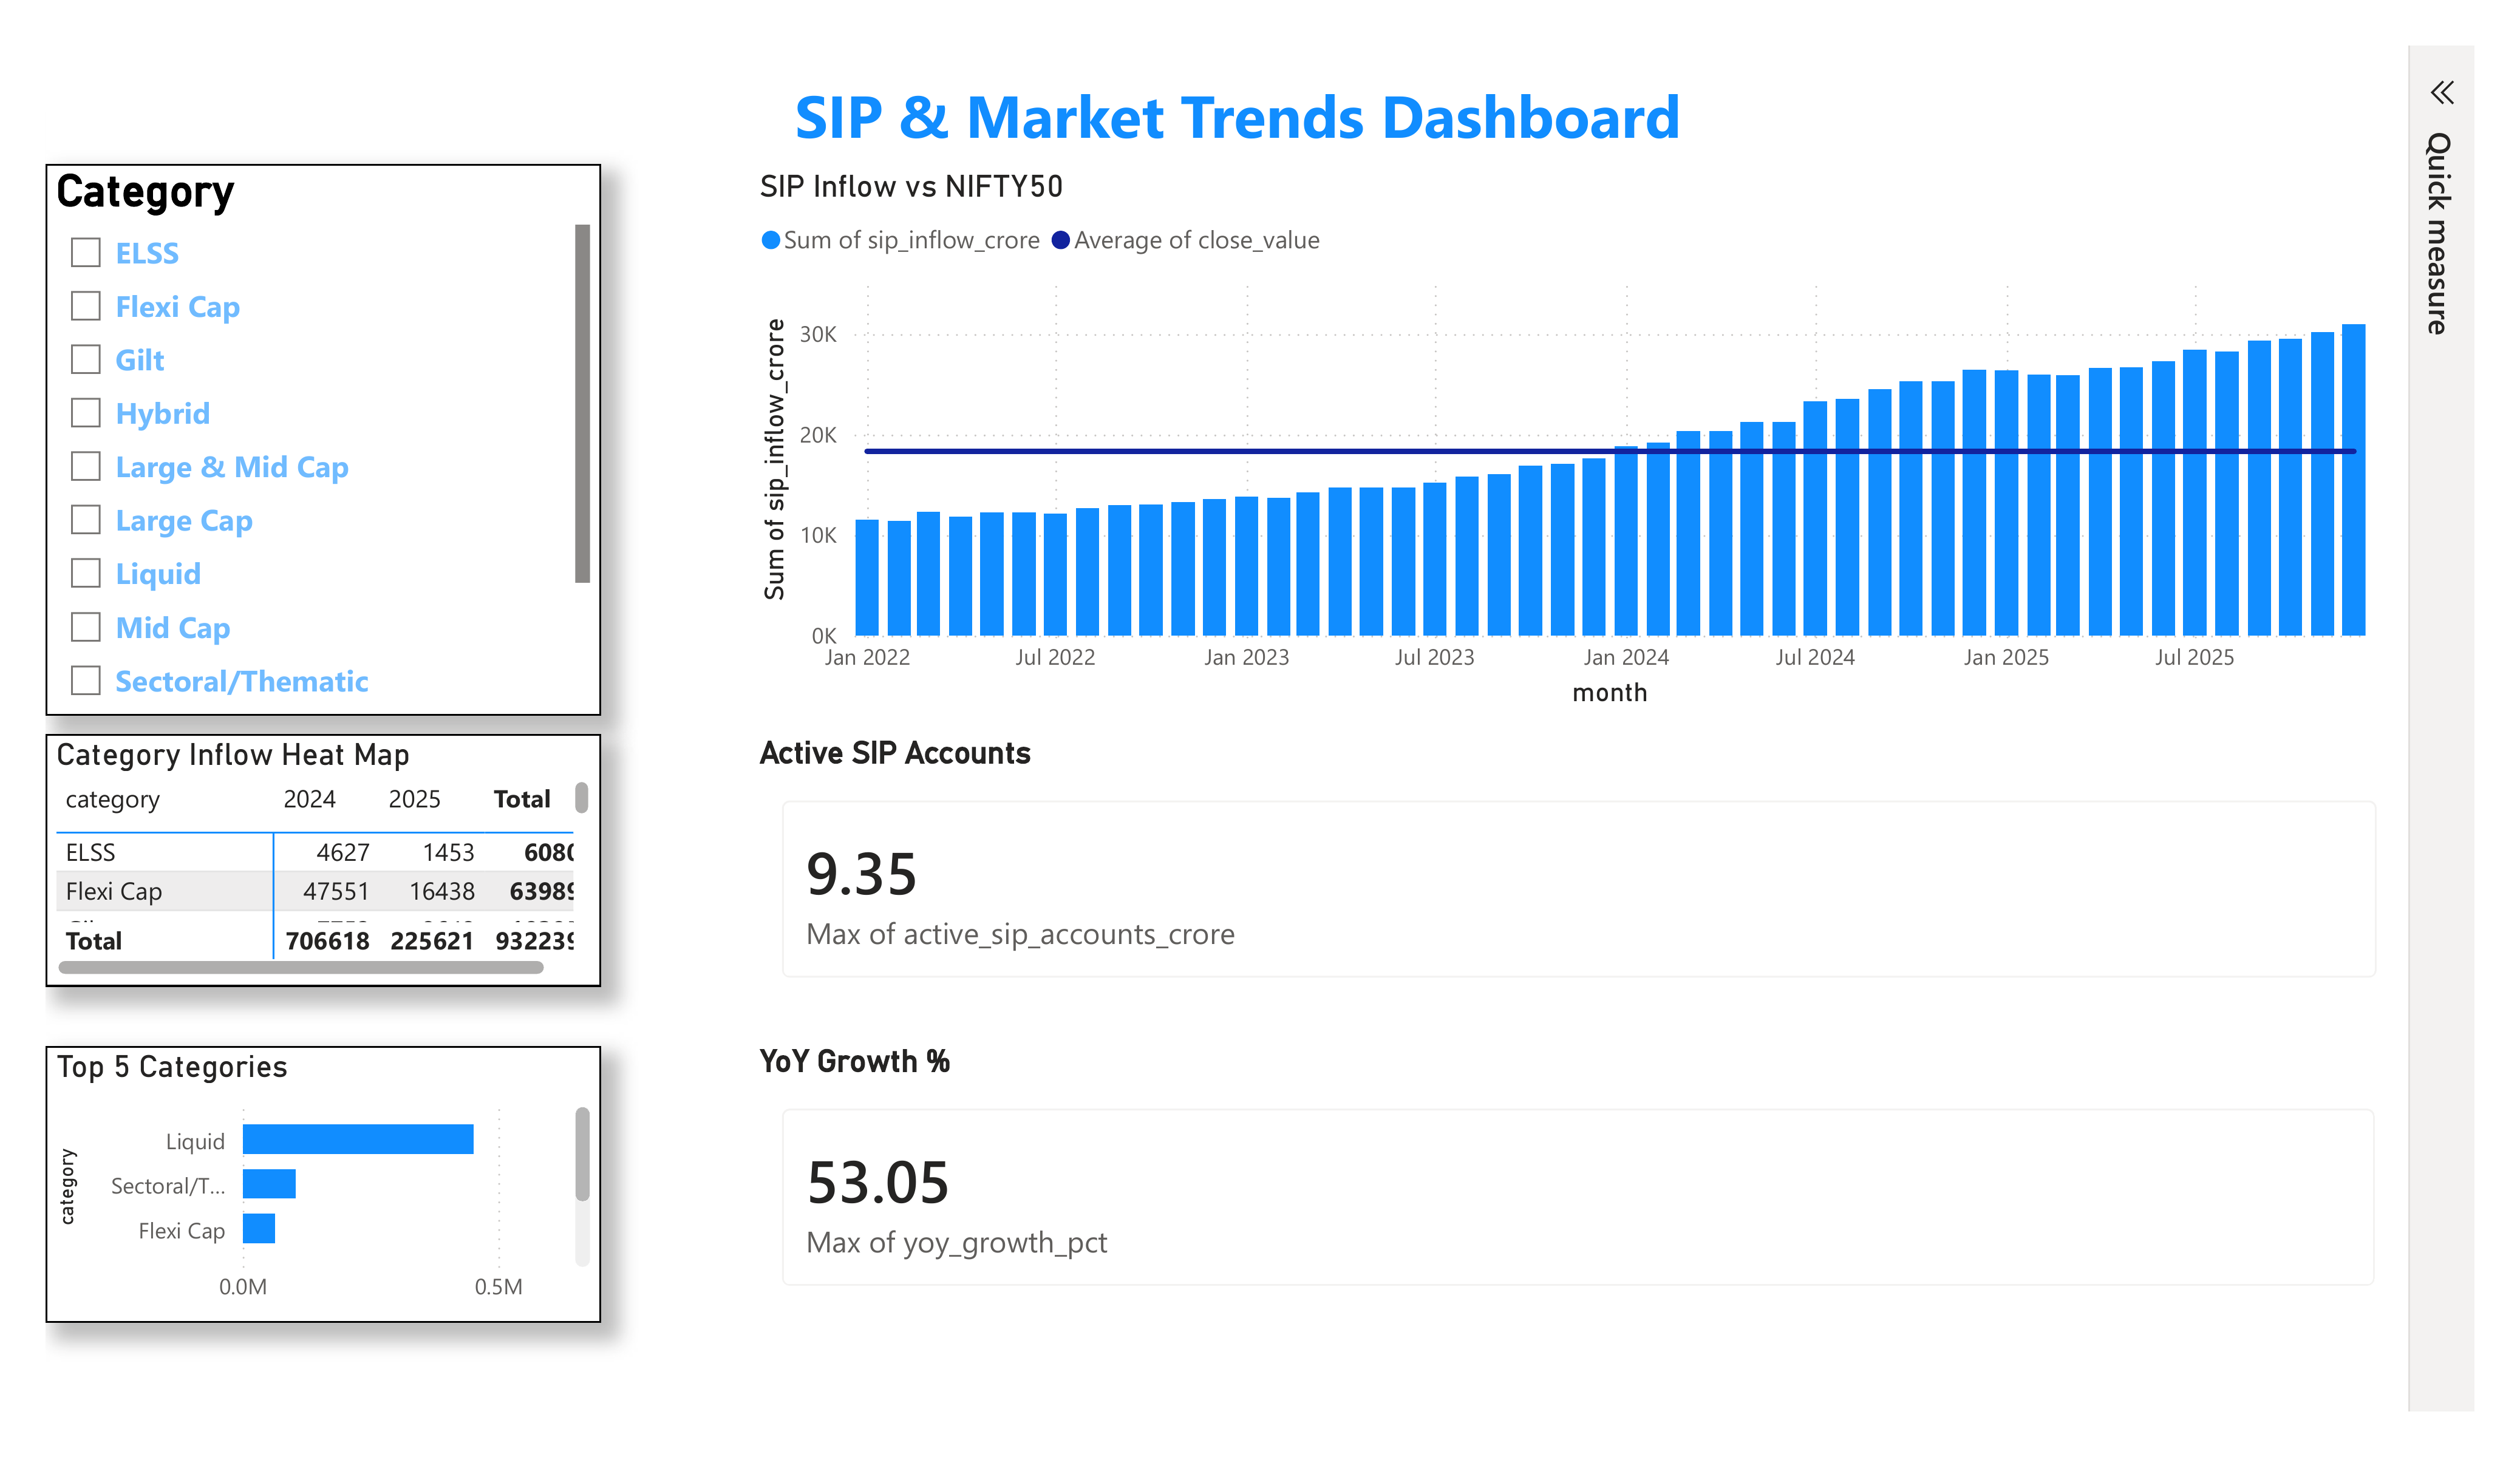

Layout of this report page (visuals, bound fields, positions):
{"tool":"powerbi","page":{"name":"SIP Market Trends","canvas":[1280,720],"ordinal":3},"visuals":[{"type":"textbox","box":[400.5,0,583,108.3],"z":0},{"type":"slicer","title":"Category","fields":{"Values":["05_category_inflows.category"]},"box":[0,54.2,300.8,299.3],"z":1000},{"type":"lineClusteredColumnComboChart","title":"SIP Inflow vs NIFTY50","fields":{"Y":["Sum(04_monthly_sip_inflows.sip_inflow_crore)"],"Category":["04_monthly_sip_inflows.month"],"Y2":["Avg(10_benchmark_indices.close_value)"]},"box":[382,55.6,898,297.9],"z":2000},{"type":"pivotTable","title":"Category Inflow Heat Map","fields":{"Rows":["05_category_inflows.category"],"Columns":["05_category_inflows.month.Variation.Date Hierarchy.Year","05_category_inflows.month.Variation.Date Hierarchy.Quarter","05_category_inflows.month.Variation.Date Hierarchy.Month","05_category_inflows.month.Variation.Date Hierarchy.Day"],"Values":["Sum(05_category_inflows.net_inflow_crore)"]},"box":[0,363.5,300.8,136.8],"z":3000},{"type":"clusteredBarChart","title":"Top 5 Categories","fields":{"Category":["05_category_inflows.category"],"Y":["Sum(05_category_inflows.net_inflow_crore)"]},"box":[0,531.5,301,150],"z":3001},{"type":"cardVisual","title":"Active SIP Accounts","fields":{"Data":["Max(04_monthly_sip_inflows.active_sip_accounts_crore)"]},"box":[382,363,898,150],"z":3002},{"type":"cardVisual","title":"YoY Growth %","fields":{"Data":["Max(04_monthly_sip_inflows.yoy_growth_pct)"]},"box":[382,530.2,898,149.7],"z":3003}]}

Visuals, with their boxes on the page's 1280x720 design canvas (x1, y1, x2, y2). These are canvas units, not pixel positions in the 2520x1457 screenshot, which may show the page scaled, cropped or inside an application window:
textbox: {"left": 400, "top": 0, "right": 984, "bottom": 108}
"Category" slicer: {"left": 0, "top": 54, "right": 301, "bottom": 354}
"SIP Inflow vs NIFTY50" lineClusteredColumnComboChart: {"left": 382, "top": 56, "right": 1280, "bottom": 354}
"Category Inflow Heat Map" pivotTable: {"left": 0, "top": 364, "right": 301, "bottom": 500}
"Top 5 Categories" clusteredBarChart: {"left": 0, "top": 532, "right": 301, "bottom": 682}
"Active SIP Accounts" cardVisual: {"left": 382, "top": 363, "right": 1280, "bottom": 513}
"YoY Growth %" cardVisual: {"left": 382, "top": 530, "right": 1280, "bottom": 680}
